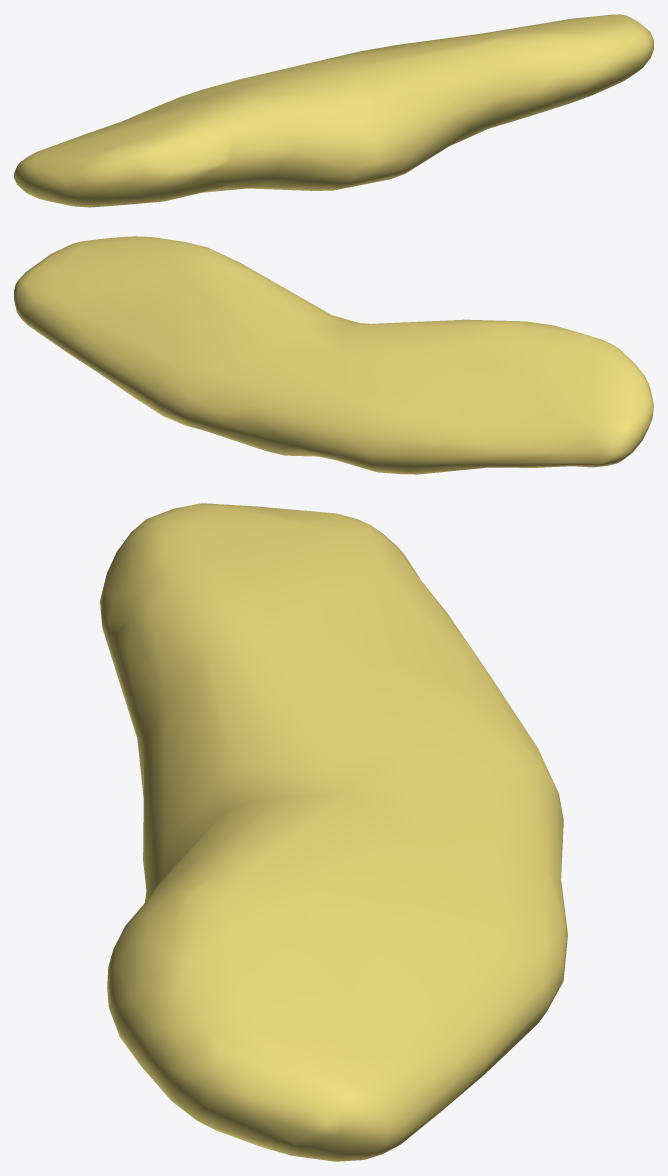
File: posterior-commissure.glb
The picture shows the model from 3 angles, top to bottom: view 1: azimuth 30°, elevation 25°; view 2: azimuth 150°, elevation 25°; view 3: azimuth 270°, elevation 25°; orthographic projection. The views are drawn at different scales.
Visible parts, largest first — view 1: Posterior commissure; view 2: Posterior commissure; view 3: Posterior commissure.
Part boxes in pixels (box(x1,y1,x2,y2)): Posterior commissure: box(14, 14, 653, 207); Posterior commissure: box(14, 236, 653, 474); Posterior commissure: box(100, 503, 567, 1161).
Bounding box in the file's own units: 0.015 × 0.00265 × 0.00493.
